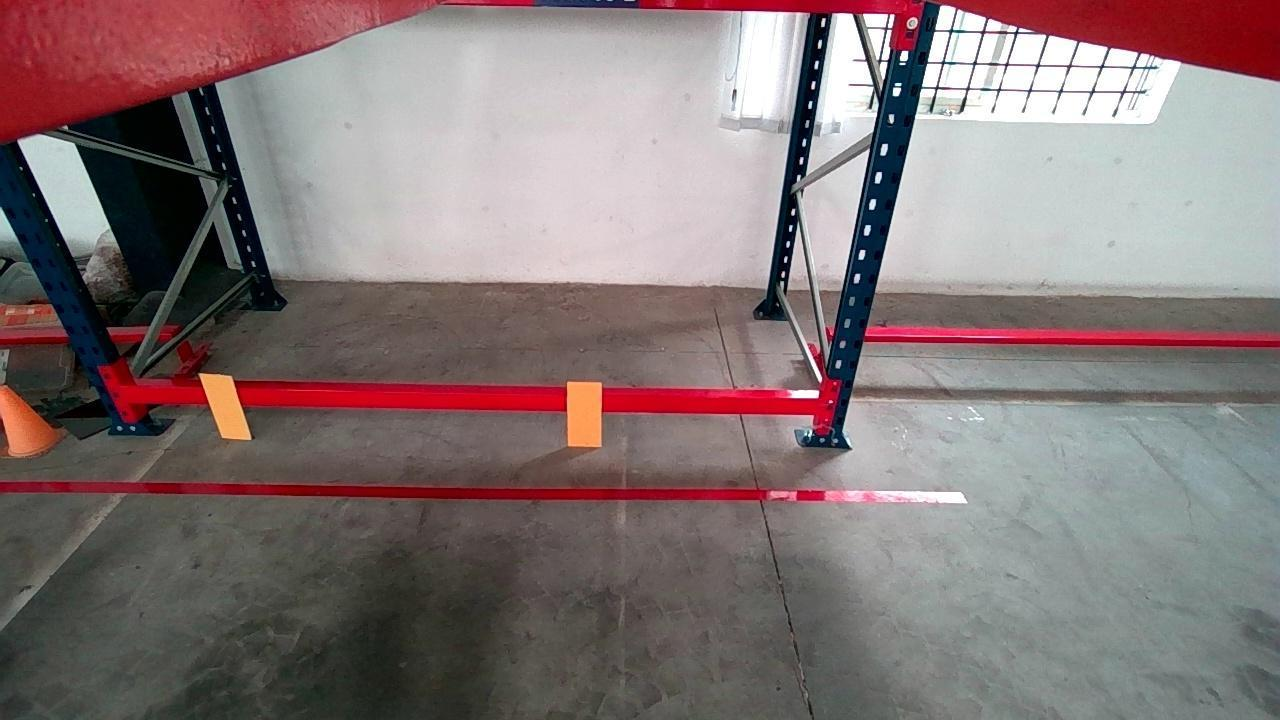h_rack: (123, 386, 820, 415)
orange_strip: (198, 370, 251, 439), (566, 381, 606, 446)
red_line: (0, 482, 970, 503)
